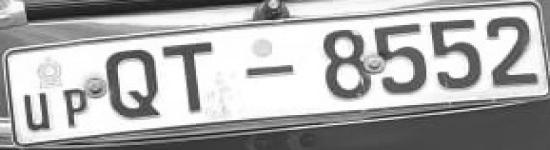-: (240, 61, 296, 78)
2: (483, 12, 542, 91)
5: (372, 20, 429, 96), (428, 18, 482, 94)
8: (314, 25, 373, 100)
P: (58, 86, 90, 128)
Q: (102, 46, 162, 123)
T: (160, 37, 218, 116)
U: (19, 91, 52, 133)
